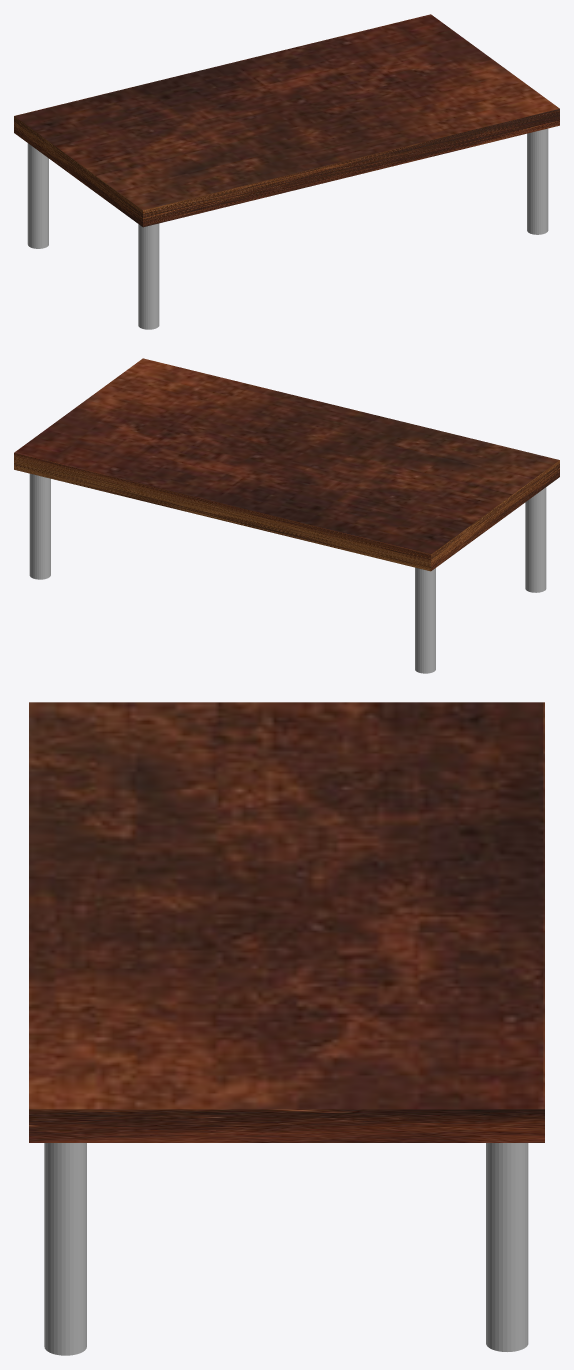
Rendered from table.obj.
3 views of the same model, one above another, from view 1: azimuth 30°, elevation 25°; view 2: azimuth 150°, elevation 25°; view 3: azimuth 270°, elevation 25° (orthographic). The views are drawn at different scales.
Parts seen in each view (by area): view 1: Cube, Cylinder; view 2: Cube, Cylinder; view 3: Cube, Cylinder.
Part boxes in pixels (<box>): Cube: <box>14,14,559,227</box>; Cylinder: <box>27,128,548,329</box>; Cube: <box>14,358,559,571</box>; Cylinder: <box>29,473,546,673</box>; Cube: <box>29,702,544,1142</box>; Cylinder: <box>44,1143,528,1355</box>.
Size of the model in its own units: 3.73 by 1.07 by 2.
